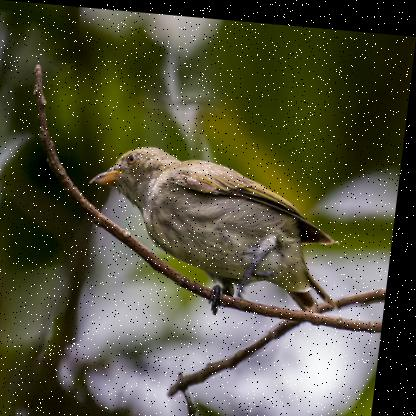Burung: (82, 139, 355, 321)
